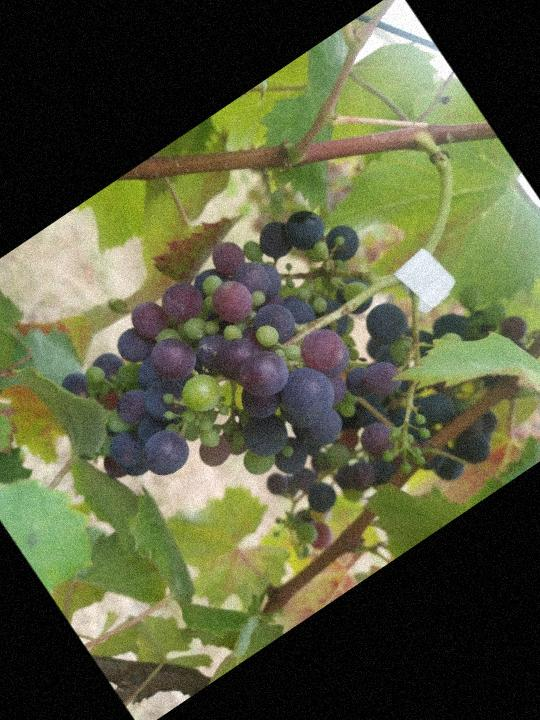grape: (31, 168, 456, 563)
